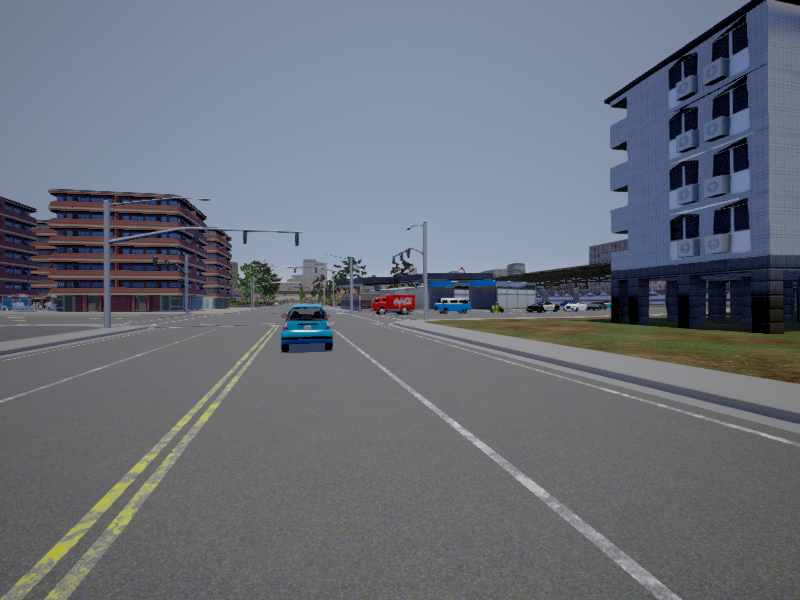Benign: (280, 304, 335, 351), (370, 296, 415, 315), (434, 297, 472, 313), (527, 303, 558, 314)
